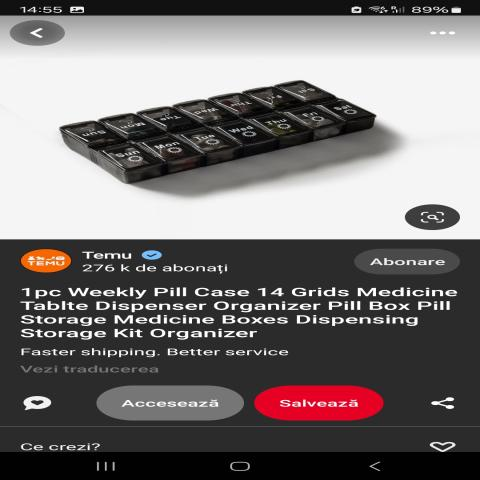Pill-box: (24, 53, 405, 201)
